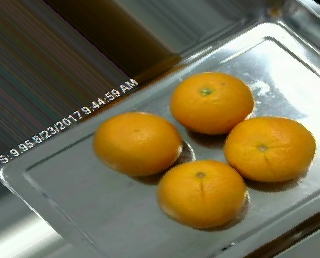Orange: (157, 158, 247, 228), (222, 114, 315, 181), (93, 111, 182, 177), (170, 71, 254, 136)
